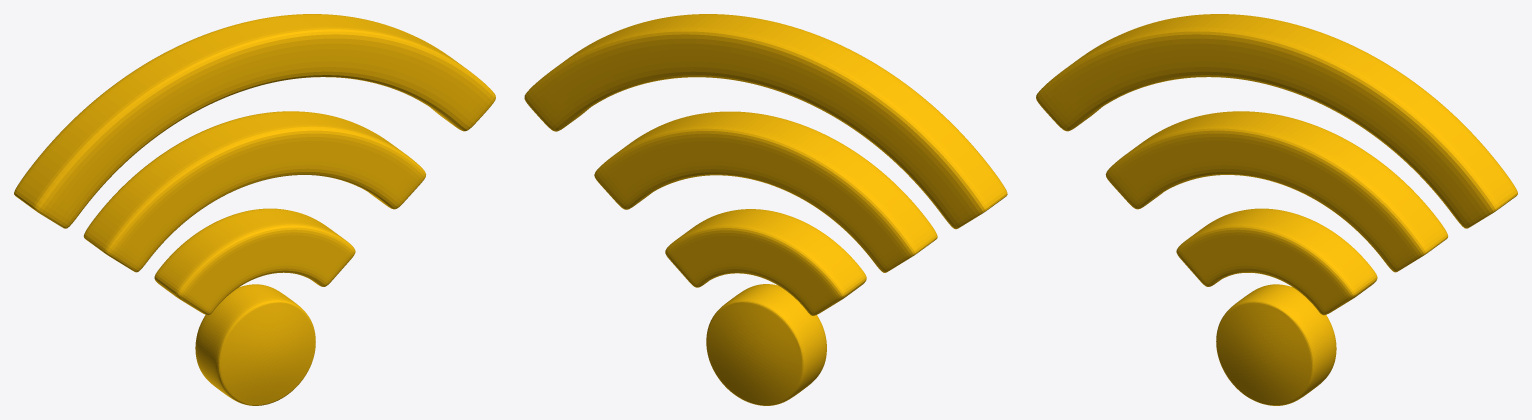
File: internet_3D.glb
3 renders of one model, left to right at view 1: azimuth 30°, elevation 25°; view 2: azimuth 150°, elevation 25°; view 3: azimuth 330°, elevation 25°, orthographic.
Parts seen in each view (by area): view 1: uploads_files_785049_WiFi+for+stock; view 2: uploads_files_785049_WiFi+for+stock; view 3: uploads_files_785049_WiFi+for+stock.
Part boxes in pixels (x1=…): uploads_files_785049_WiFi+for+stock: x1=14, y1=14, x2=495, y2=405; uploads_files_785049_WiFi+for+stock: x1=524, y1=14, x2=1007, y2=405; uploads_files_785049_WiFi+for+stock: x1=1036, y1=14, x2=1517, y2=405.
Size of the model in its own units: 0.8979 by 0.6824 by 0.107.
